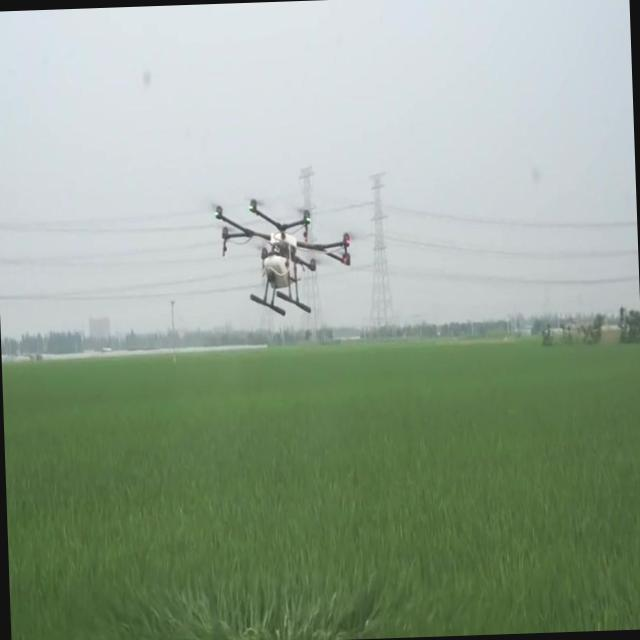drone: (212, 192, 354, 324)
